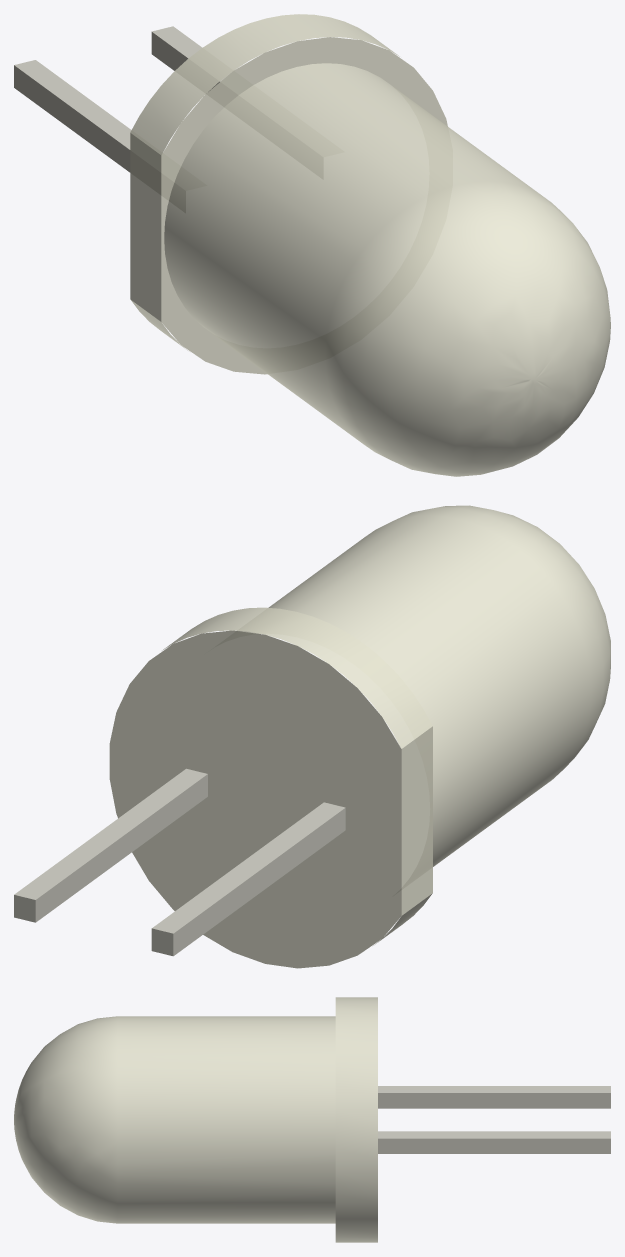
The model's file is led-d5.0-clear.glb.
The picture shows the model from 3 angles, top to bottom: view 1: azimuth 30°, elevation 25°; view 2: azimuth 150°, elevation 25°; view 3: azimuth 270°, elevation 25°; orthographic projection. The views are drawn at different scales.
Visible parts, largest first — view 1: LED-WHITE, PIN-01; view 2: LED-WHITE, PIN-01; view 3: LED-WHITE, PIN-01.
Boxes of the visible parts, x1,y1,x2,y2 form: LED-WHITE: (130,14,610,476); PIN-01: (14,26,233,172); LED-WHITE: (109,505,610,968); PIN-01: (14,768,345,956); LED-WHITE: (14,997,377,1242); PIN-01: (378,1086,610,1153).
Bounding box in the file's own units: 5.4 × 5.8 × 14.1.
